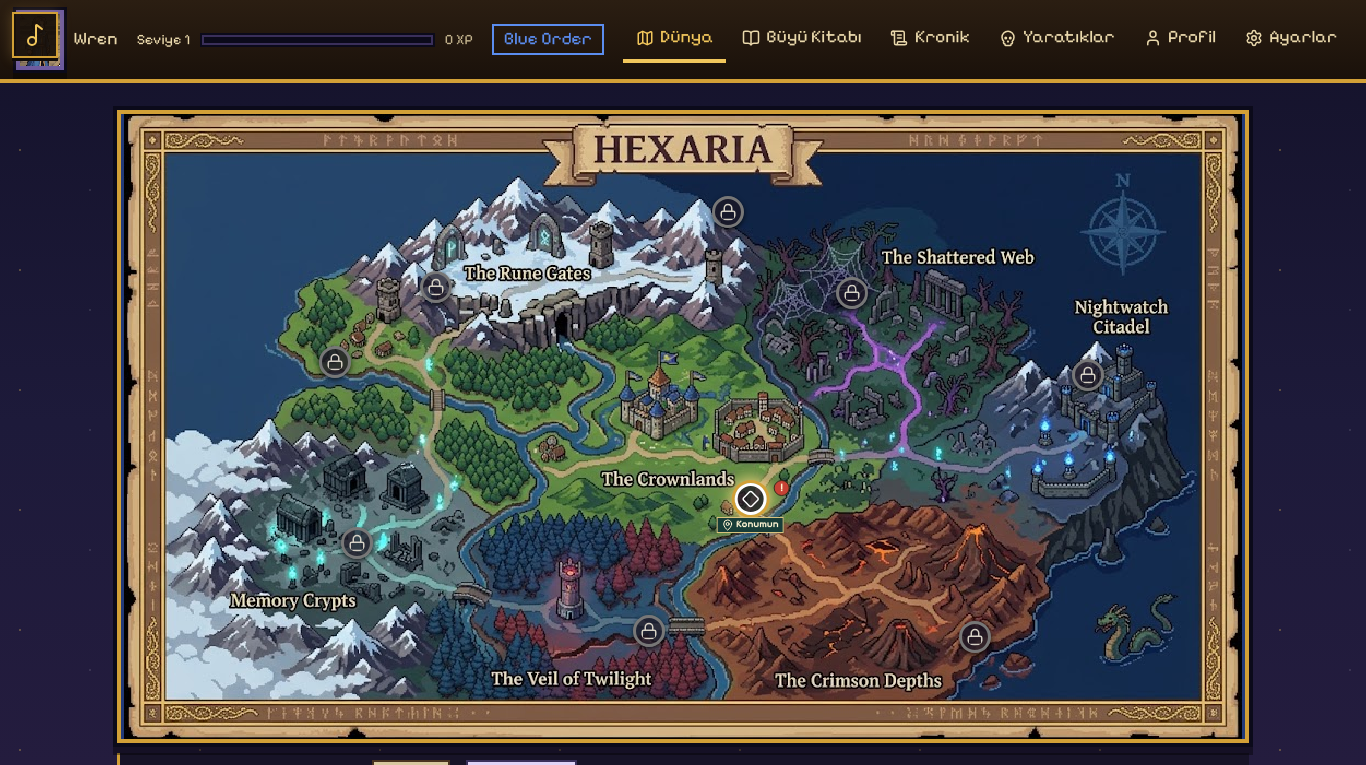
Test: localization and world map › shows nine selectable regions and translated detail text in Turkish
Check: the button named "Unutulmuş Gözlemevi, kilitli" is shown, box [706,192,750,236]
Check: the button named "Çürümüş Topraklar, kilitli" is shown, box [312,342,356,386]
Click the button named "Parçalanmış Ağ, kilitli": (852, 295) [830,273,874,317]
(page scrolled)
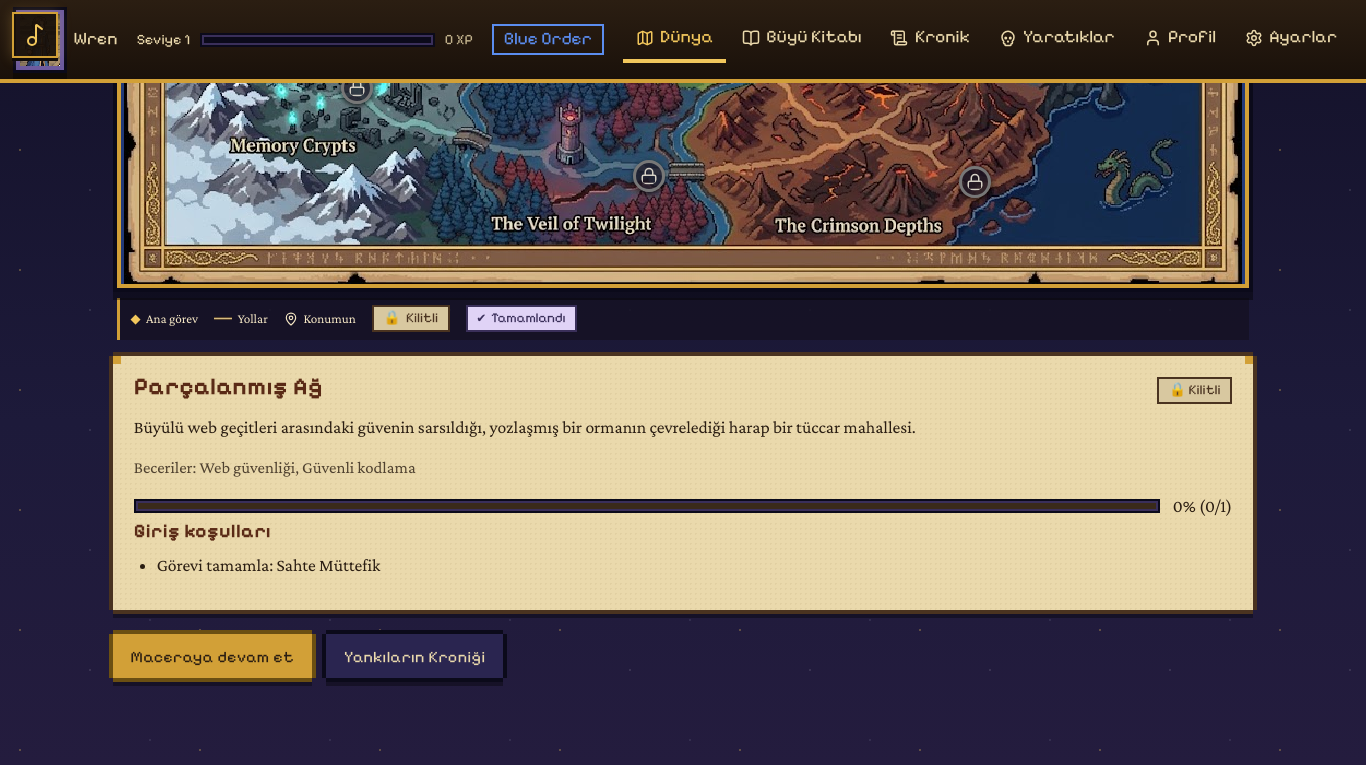
Check: the heading "Parçalanmış Ağ" is shown, box [134,373,323,402]
Check: the text "yozlaşmış bir ormanın" is shown, box [134,417,916,437]
